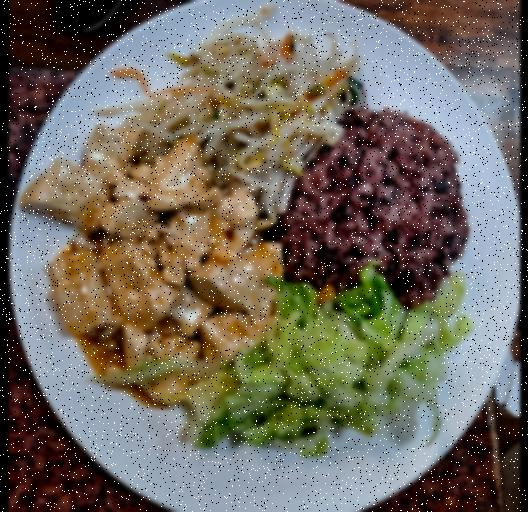big fried chicken leg: (10, 0, 514, 512)
braised fish: (278, 104, 468, 299)
braised fish fillet: (43, 148, 266, 404), (201, 274, 472, 472), (113, 28, 360, 203)
